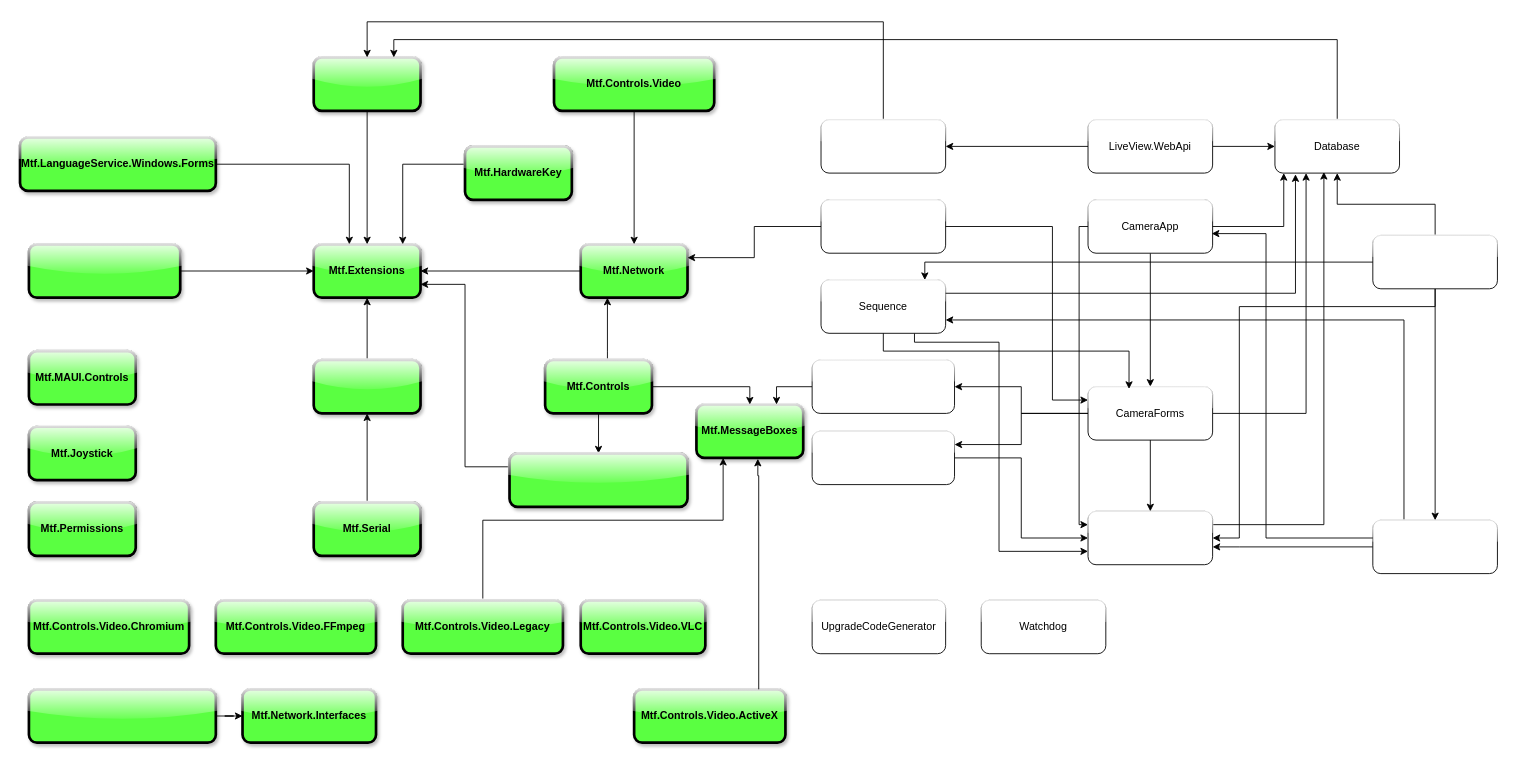
Image size: 1513x765. Some labels were removed from this diagram. Each missing label, with the centre of its shape:
LiveView: the point at 1434,262
LiveView.Agent: the point at 1434,546
LiveView.Agent.Maui: the point at 883,226
LiveView.Core: the point at 1150,537
Mtf.Controls.Sunell.IPR66: the point at 883,386
Mtf.Controls.Sunell.IPR67: the point at 883,457
Mtf.Controls.Video.OpenCvSharp: the point at 123,717
Mtf.Database: the point at 367,85
Mtf.LanguageService.WPF: the point at 105,272
Mtf.Web: the point at 883,146
Mtf.Windows.Forms.Extensions: the point at 599,481
Mtf.Wmi: the point at 367,388
